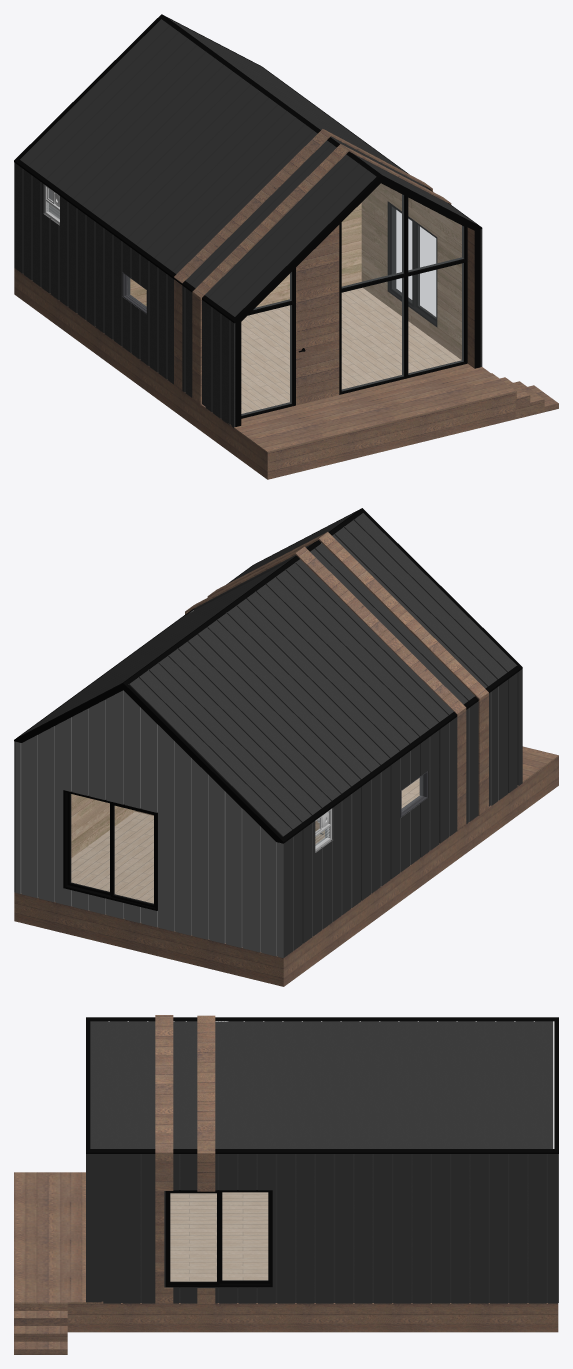
File: forza-d02b0cab22bb.glb
3 renders of one model, top to bottom at view 1: azimuth 30°, elevation 25°; view 2: azimuth 150°, elevation 25°; view 3: azimuth 270°, elevation 25°, orthographic. The views are drawn at different scales.
Parts seen in each view (by area): view 1: empty_844, empty_838, empty_343, empty_922, empty_1000, empty_328, empty_986, roof band, empty_840, empty_843, empty_1061, empty_849; view 2: empty_844, empty_973, empty_922, empty_838, roof band, empty_1000, empty_840, empty_923, empty_843, empty_328, empty_986; view 3: empty_1069, empty_844, empty_838, empty_1000, empty_843, empty_2, roof band, empty_328.
Part boxes in pixels (box(x1,y1,x2,y2)): empty_844: box(20, 18, 475, 316); empty_838: box(14, 187, 558, 479); empty_343: box(127, 184, 463, 415); empty_922: box(14, 162, 235, 428); empty_1000: box(241, 287, 461, 413); empty_328: box(235, 182, 480, 426); empty_986: box(130, 183, 461, 359); roof band: box(174, 129, 447, 297); empty_840: box(14, 14, 481, 321); empty_843: box(14, 14, 480, 322); empty_1061: box(341, 203, 361, 286); empty_849: box(234, 176, 482, 323); empty_844: box(21, 512, 516, 836); empty_973: box(21, 690, 276, 956); empty_922: box(283, 669, 522, 957); empty_838: box(14, 588, 558, 986); roof band: box(185, 532, 488, 713); empty_1000: box(71, 778, 419, 903); empty_840: box(15, 508, 521, 841); empty_923: box(15, 686, 498, 957); empty_843: box(14, 508, 522, 843); empty_328: box(63, 790, 323, 910); empty_986: box(71, 794, 135, 857); empty_1069: box(86, 1154, 558, 1303); empty_844: box(90, 1021, 552, 1148); empty_838: box(14, 1148, 558, 1354); empty_1000: box(170, 1192, 268, 1281); empty_843: box(86, 1017, 558, 1153); empty_2: box(140, 1154, 547, 1302); roof band: box(155, 1015, 215, 1153); empty_328: box(165, 1190, 272, 1287).
Size of the model in its own units: 6.2 by 4.99 by 9.31.
48 materials, 25 textured.
